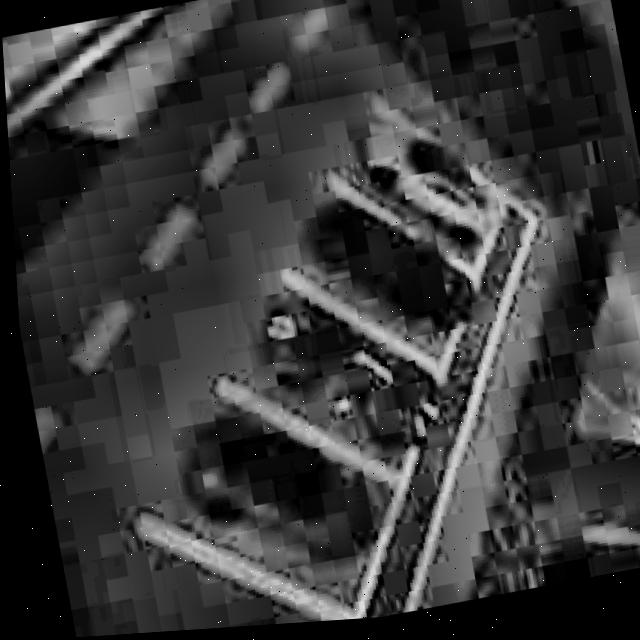car: (156, 372, 403, 607), (233, 257, 457, 491), (285, 171, 484, 367), (337, 92, 517, 276)
